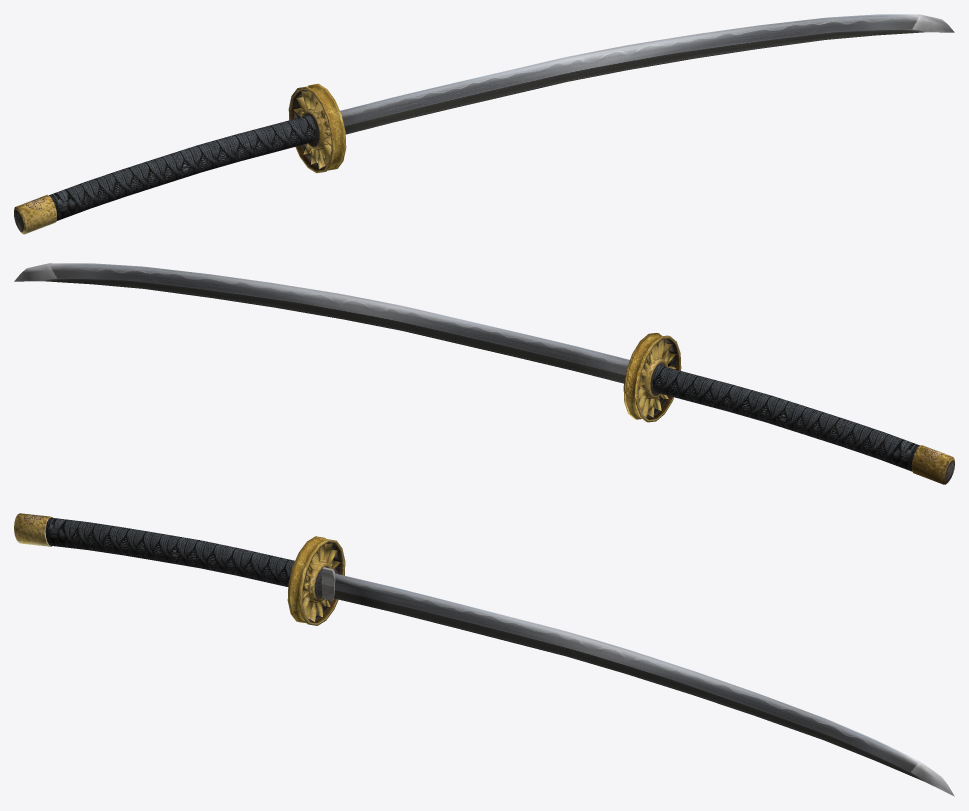
File: Katana.fbx
The picture shows the model from 3 angles, top to bottom: view 1: azimuth 30°, elevation 25°; view 2: azimuth 150°, elevation 25°; view 3: azimuth 330°, elevation 25°; orthographic projection.
Visible parts, largest first — view 1: Cube.001; view 2: Cube.001; view 3: Cube.001.
Part boxes in pixels (x1,y1,x2,y2): Cube.001: (14,14,954,234); Cube.001: (14,263,954,484); Cube.001: (14,513,954,796).
Bounding box in the file's own units: 1306 × 133 × 106.
Materials: 1 (1 with a texture image).
